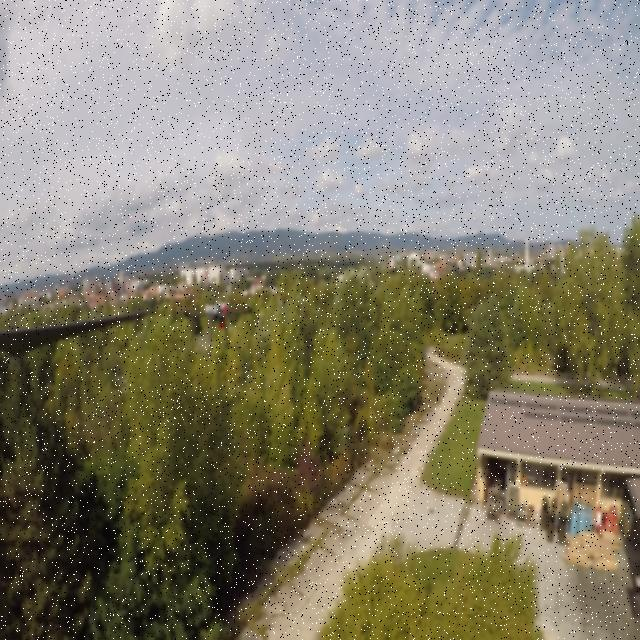UAV: (174, 292, 253, 362)
